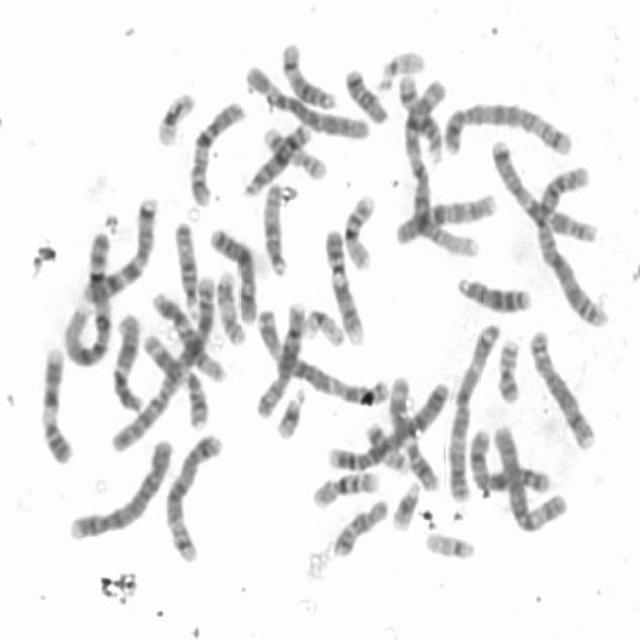A1: (397, 68, 483, 260), (58, 225, 116, 368)
A2: (105, 266, 221, 456), (530, 158, 612, 330)
A3: (252, 302, 392, 406), (443, 315, 502, 504)
B4: (324, 374, 453, 472), (64, 432, 175, 543)
B5: (158, 425, 226, 565), (438, 94, 575, 158)
C10: (185, 94, 249, 208), (391, 187, 499, 246)
C11: (138, 326, 212, 430), (385, 371, 441, 493)
C12: (147, 285, 228, 384), (107, 307, 145, 412)
C6: (239, 58, 371, 142), (489, 418, 570, 534)
C7: (486, 132, 601, 244), (78, 189, 160, 303)
C8: (526, 324, 600, 452), (251, 296, 307, 420)
C9: (320, 224, 367, 347), (35, 339, 76, 467)
D13: (238, 116, 314, 199), (454, 270, 534, 314)
D14: (395, 69, 446, 164), (276, 35, 338, 112)
D15: (258, 176, 292, 279), (170, 214, 202, 314)
E16: (308, 464, 382, 510), (338, 188, 379, 271)
E17: (258, 121, 328, 182), (212, 266, 248, 346)
E18: (329, 491, 391, 559), (340, 62, 391, 125)
F19: (152, 85, 197, 148), (300, 302, 346, 348)
F20: (362, 418, 410, 475), (493, 332, 524, 405)
G21: (271, 382, 309, 441), (388, 474, 422, 532)
G22: (373, 42, 427, 91), (420, 525, 478, 561)
X: (464, 422, 553, 496), (206, 222, 259, 326)
